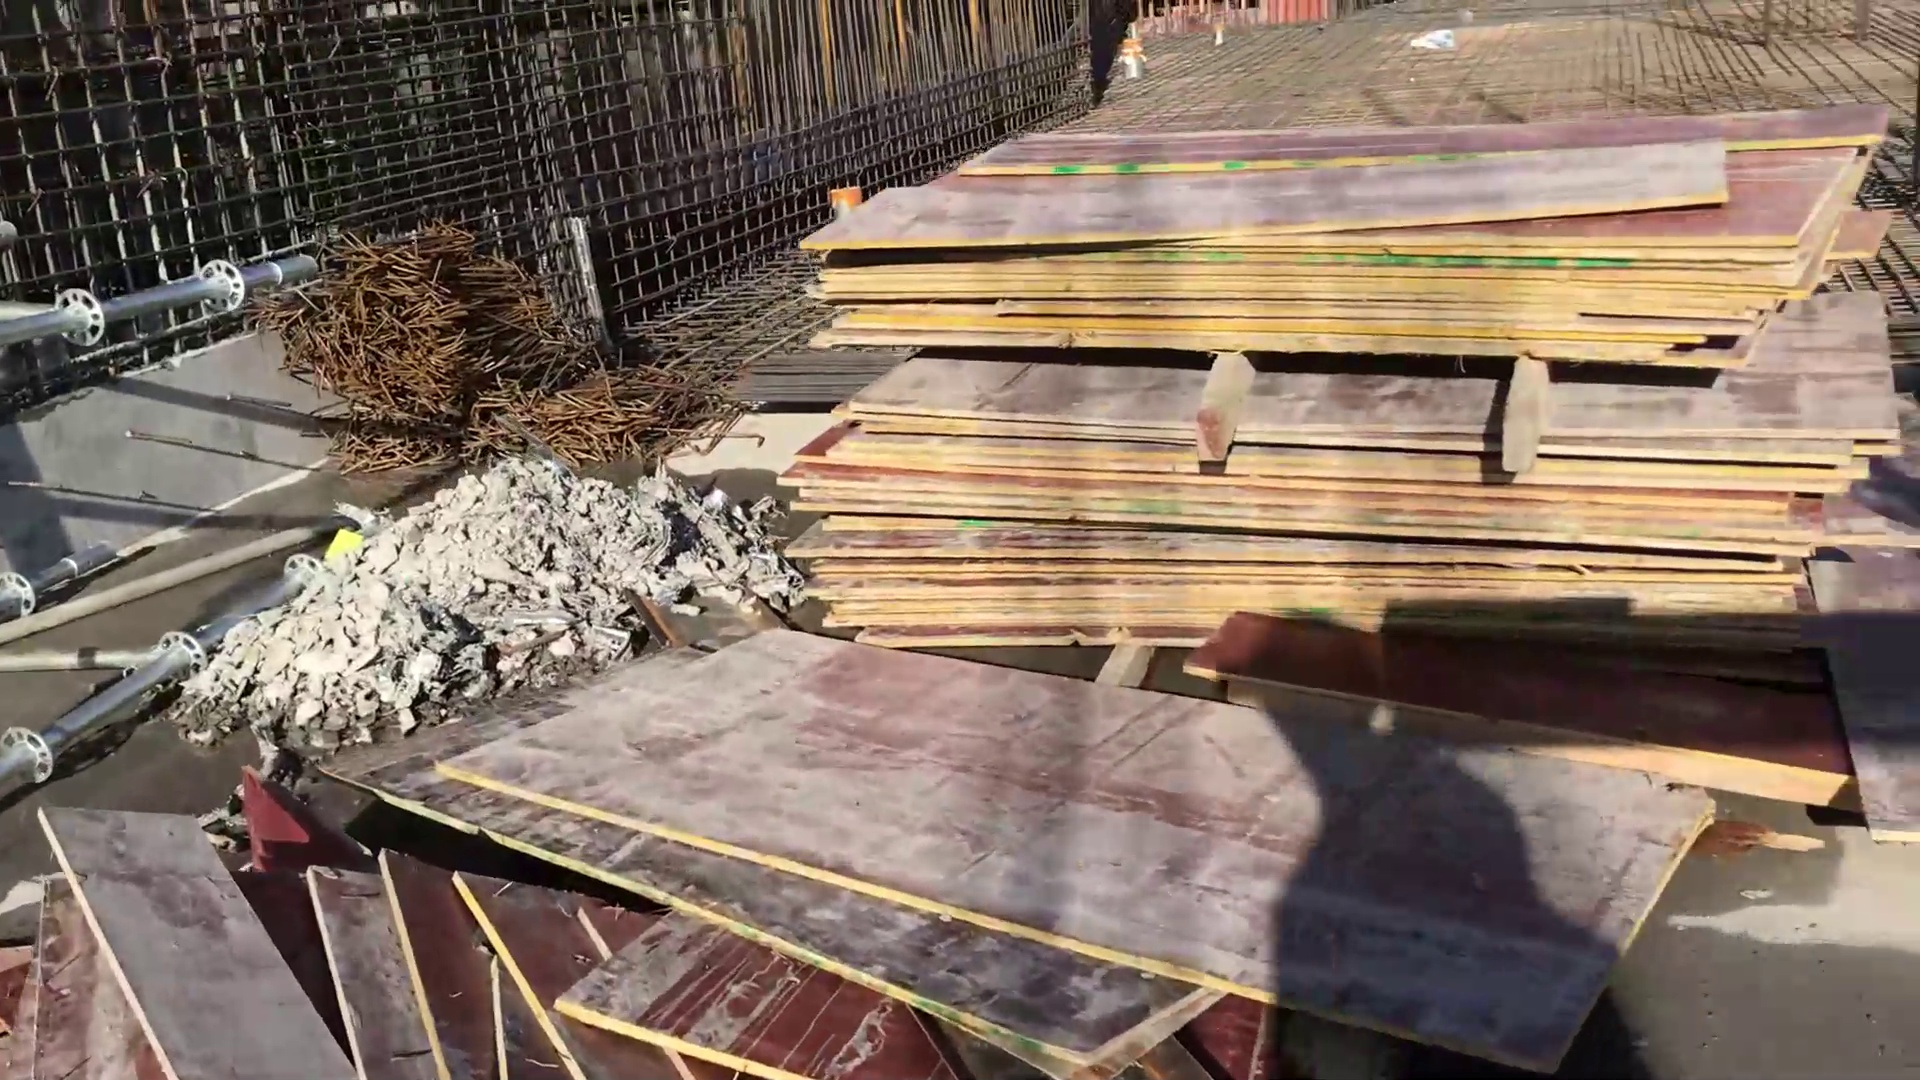board: (782, 80, 1898, 709)
